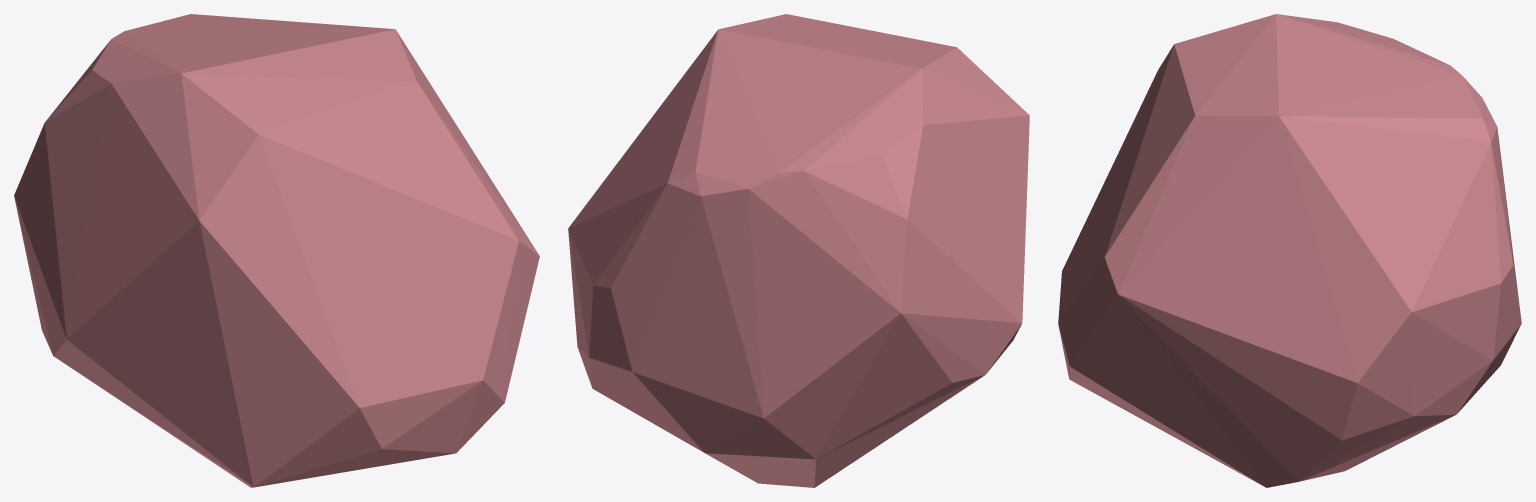
Rendered from food_produce_peach_b01.glb.
The picture shows the model from 3 angles, left to right: view 1: azimuth 30°, elevation 25°; view 2: azimuth 150°, elevation 25°; view 3: azimuth 270°, elevation 25°; orthographic projection. The views are drawn at different scales.
Visible parts, largest first — view 1: geometry_0; view 2: geometry_0; view 3: geometry_0.
Part boxes in pixels (x1,y1,x2,y2): geometry_0: (14,14,539,487); geometry_0: (568,14,1029,487); geometry_0: (1058,14,1521,487).
Bounding box in the file's own units: 0.4579 × 0.4555 × 0.4745.
